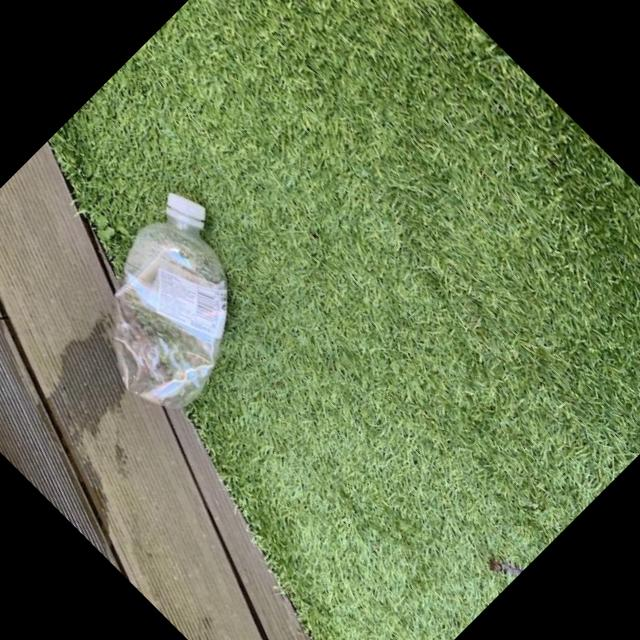BotolPlastik: (46, 182, 296, 432)
